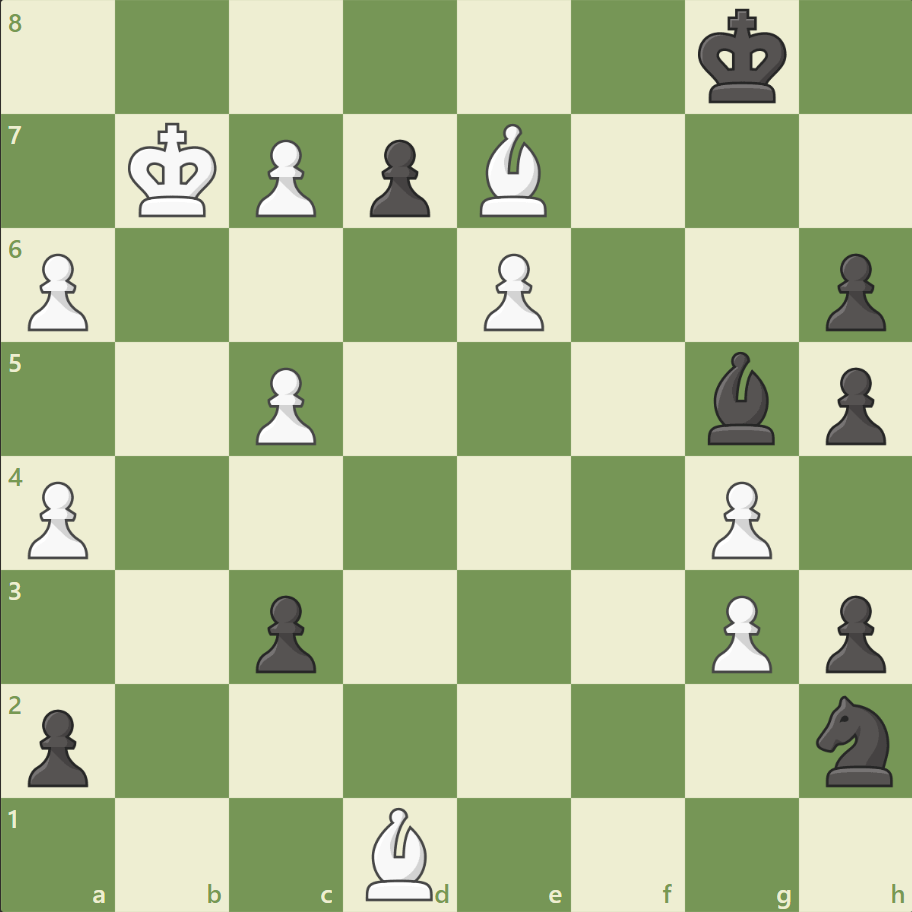B: (358, 801, 442, 904), (471, 120, 555, 222)
K: (124, 117, 224, 225)
P: (247, 132, 322, 223), (20, 246, 95, 337), (474, 246, 549, 337), (247, 359, 322, 450), (20, 473, 95, 564), (701, 473, 776, 564), (701, 586, 776, 677)
b: (698, 347, 782, 449)
k: (692, 4, 792, 112)
n: (806, 688, 903, 791)
p: (247, 586, 322, 677), (20, 700, 95, 791), (361, 132, 435, 223), (815, 246, 889, 337), (815, 359, 889, 450), (815, 586, 889, 677)
